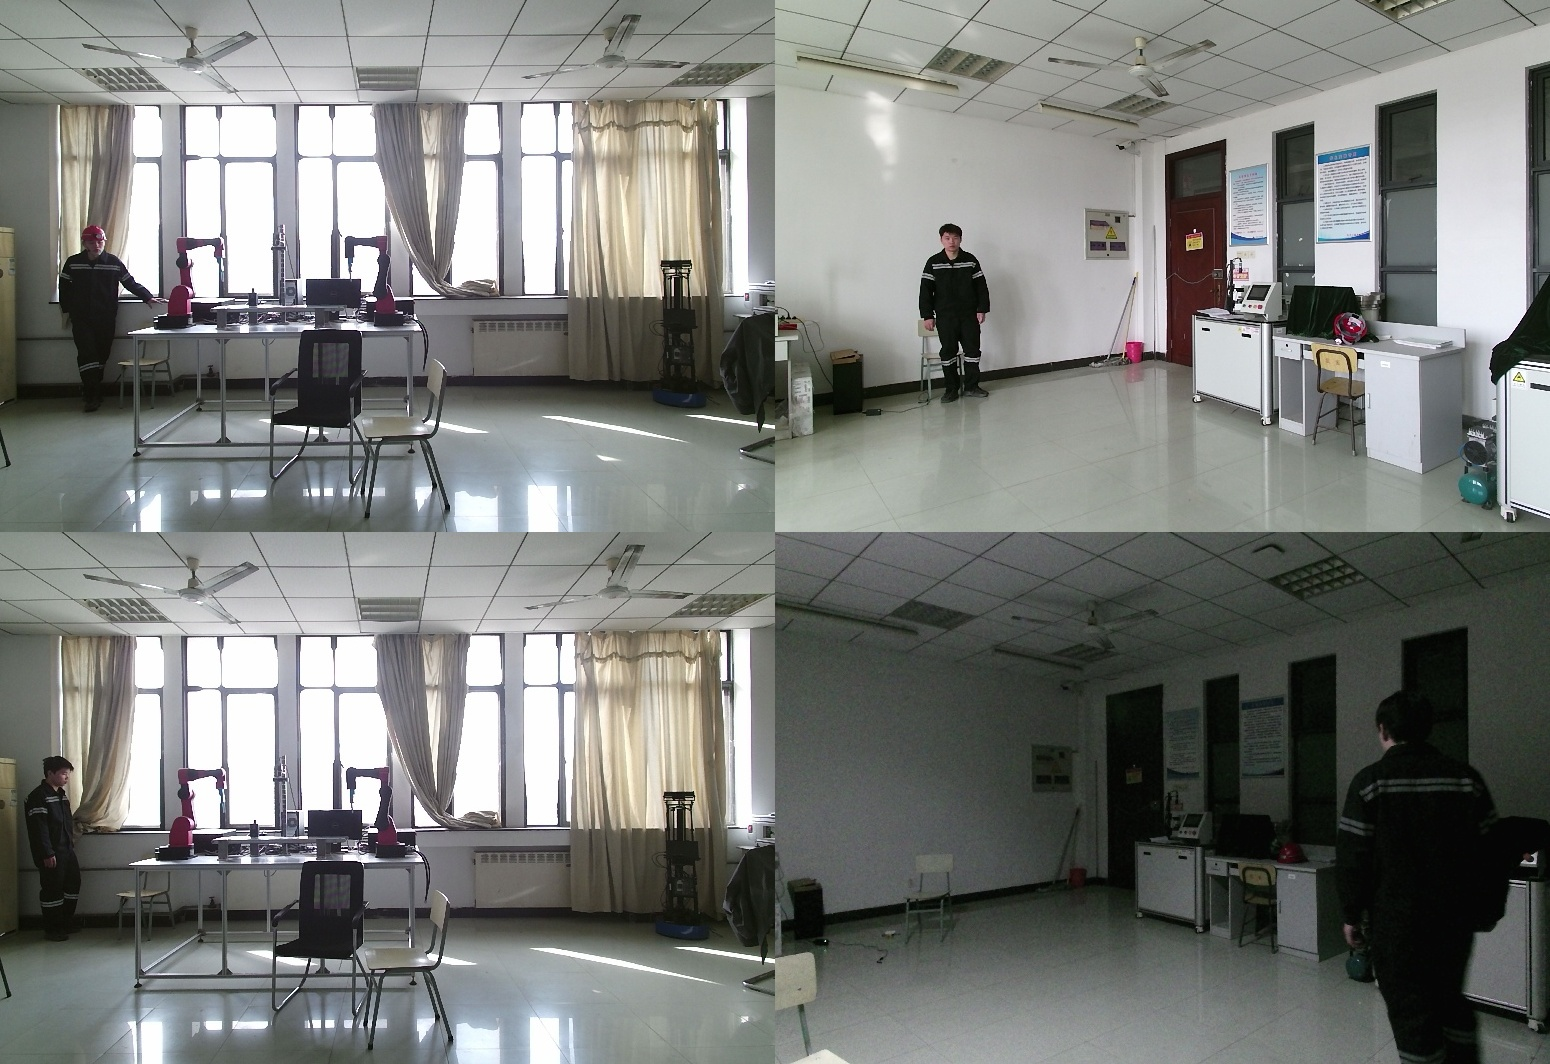person: (1348, 688, 1540, 1064), (55, 226, 159, 411), (919, 226, 994, 405), (18, 756, 81, 943)
